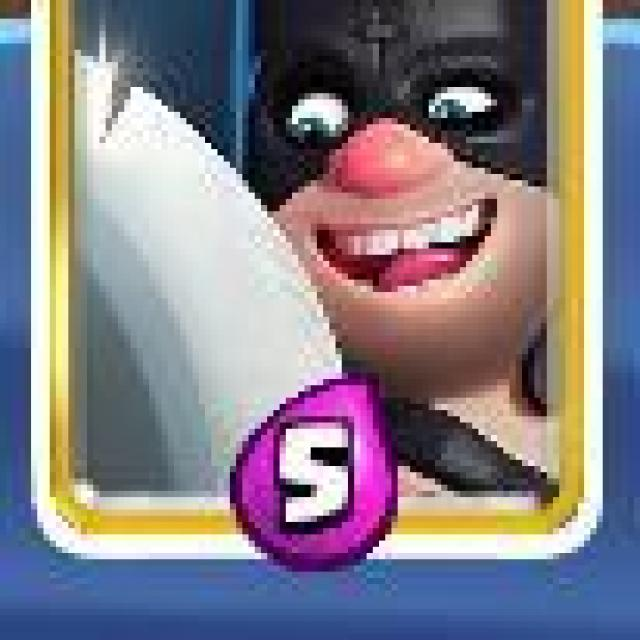Executioner: (26, 0, 605, 566)
